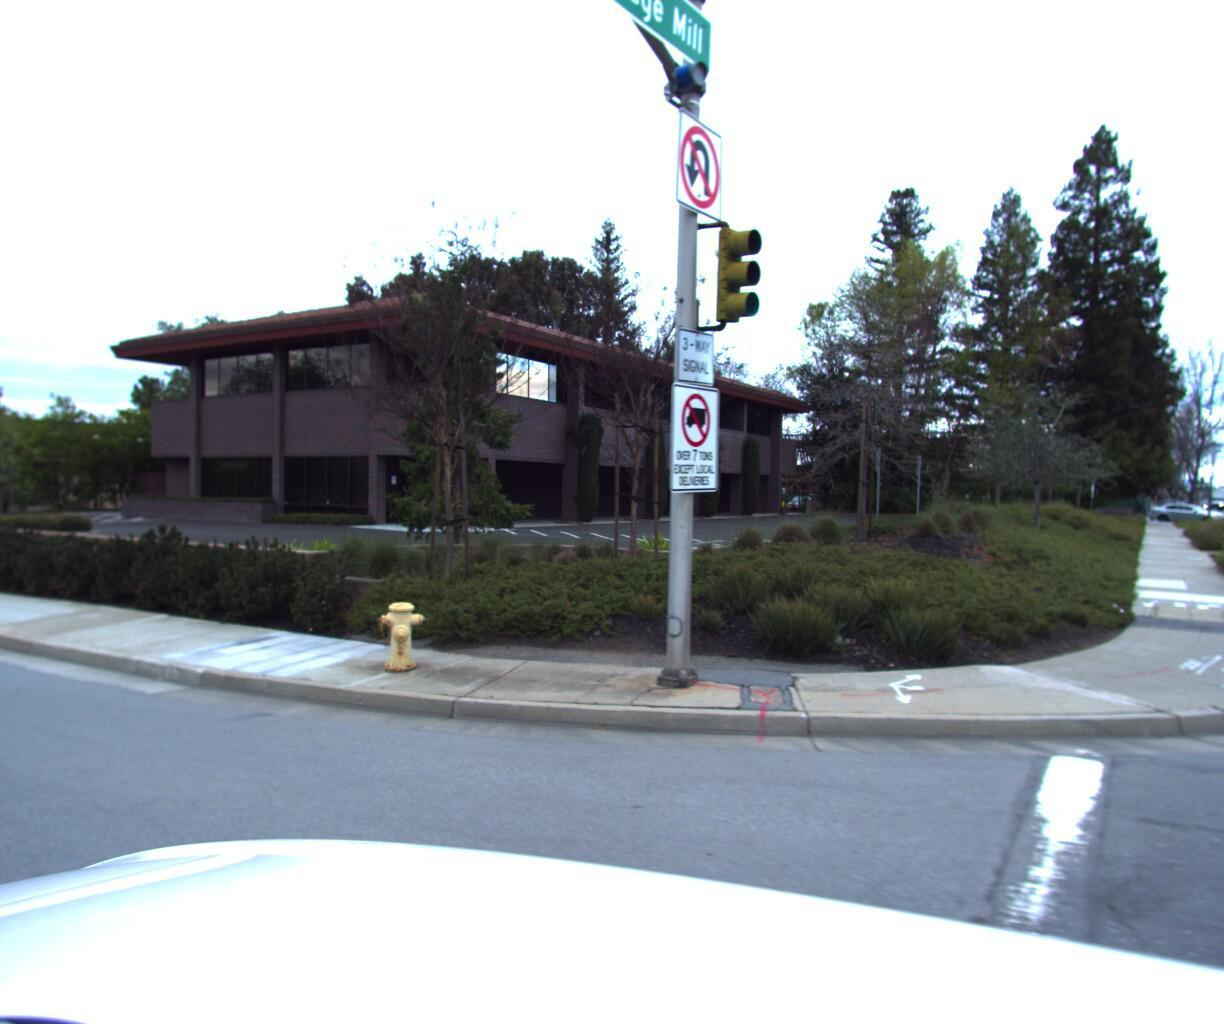car: (1150, 501, 1224, 526)
